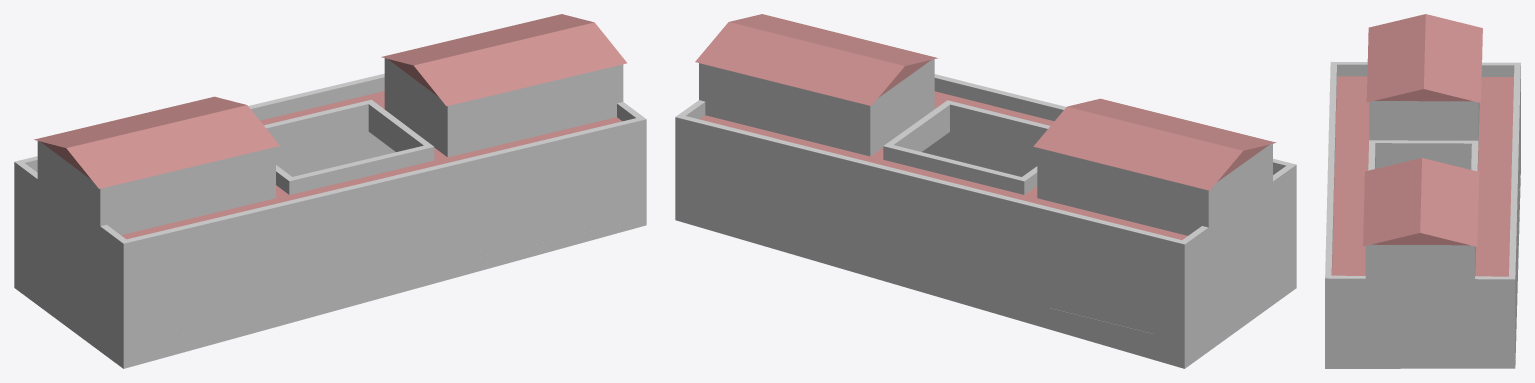
Rendered from LOD_Block_0_72.glb.
3 renders of one model, left to right at view 1: azimuth 30°, elevation 25°; view 2: azimuth 150°, elevation 25°; view 3: azimuth 270°, elevation 25°, orthographic. The views are drawn at different scales.
Visible parts, largest first — view 1: mesh_CityEngineMaterial_1096; view 2: mesh_CityEngineMaterial_1096; view 3: mesh_CityEngineMaterial_1096.
Boxes of the visible parts, x1,y1,x2,y2 form: mesh_CityEngineMaterial_1096: [14, 14, 646, 368]; mesh_CityEngineMaterial_1096: [675, 14, 1296, 368]; mesh_CityEngineMaterial_1096: [1325, 14, 1520, 368].
Bounding box in the file's own units: 39.98 × 13.16 × 15.09.
